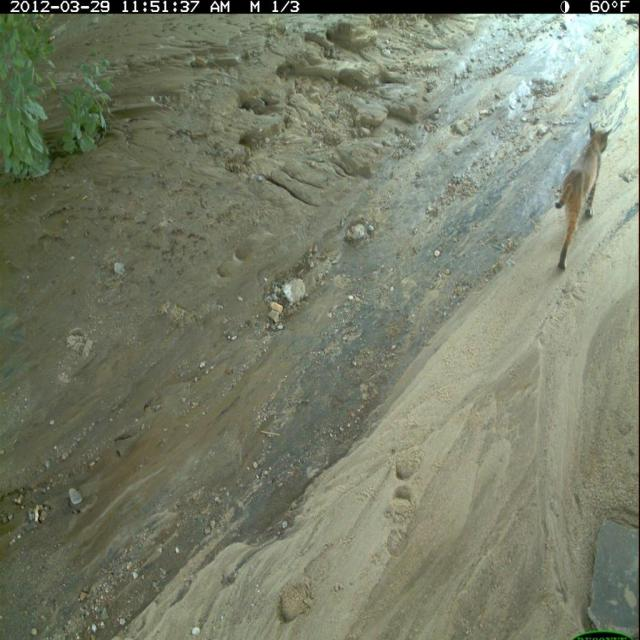bobcat: (553, 115, 616, 273)
